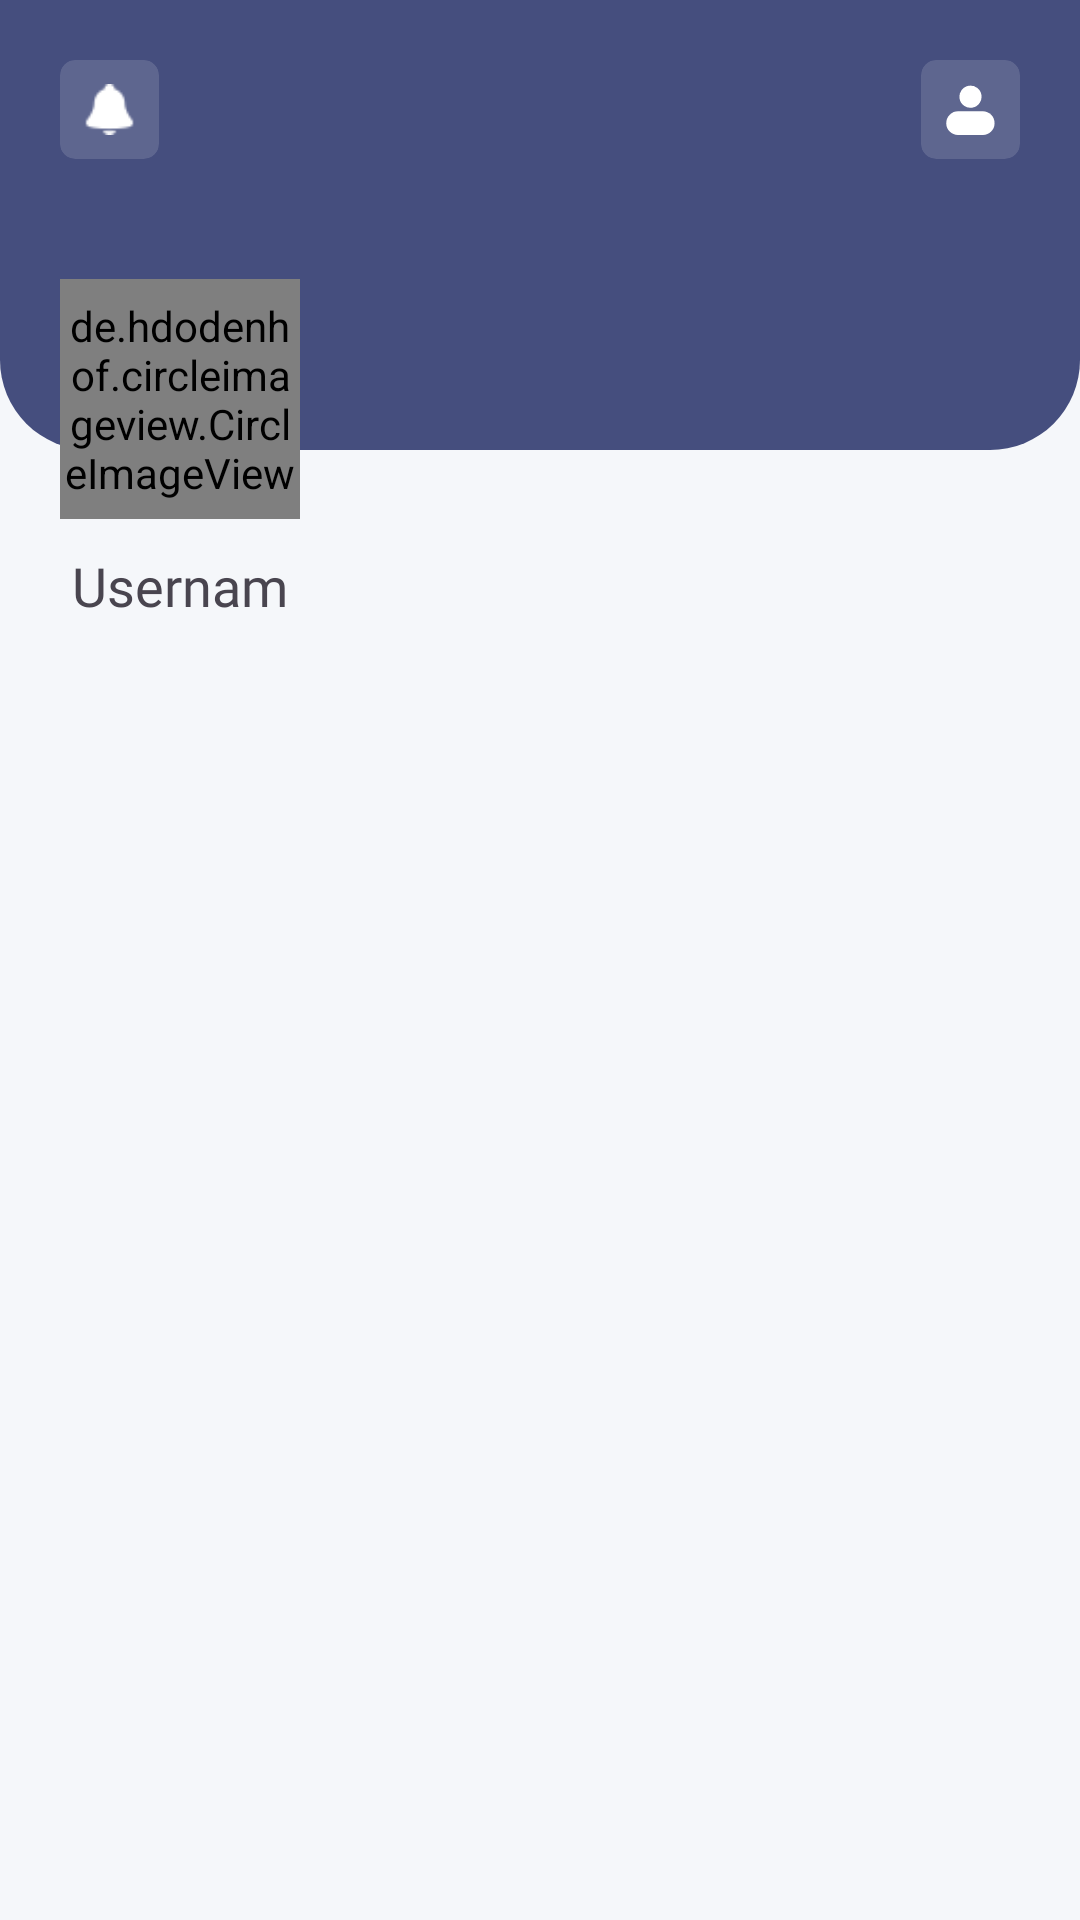

Locate icon controls on the screen. Image size 1080*1920, boxes as box=[x1, y1, x2, y2].
notification: box=[60, 60, 159, 159]
profile: box=[921, 60, 1020, 159]
